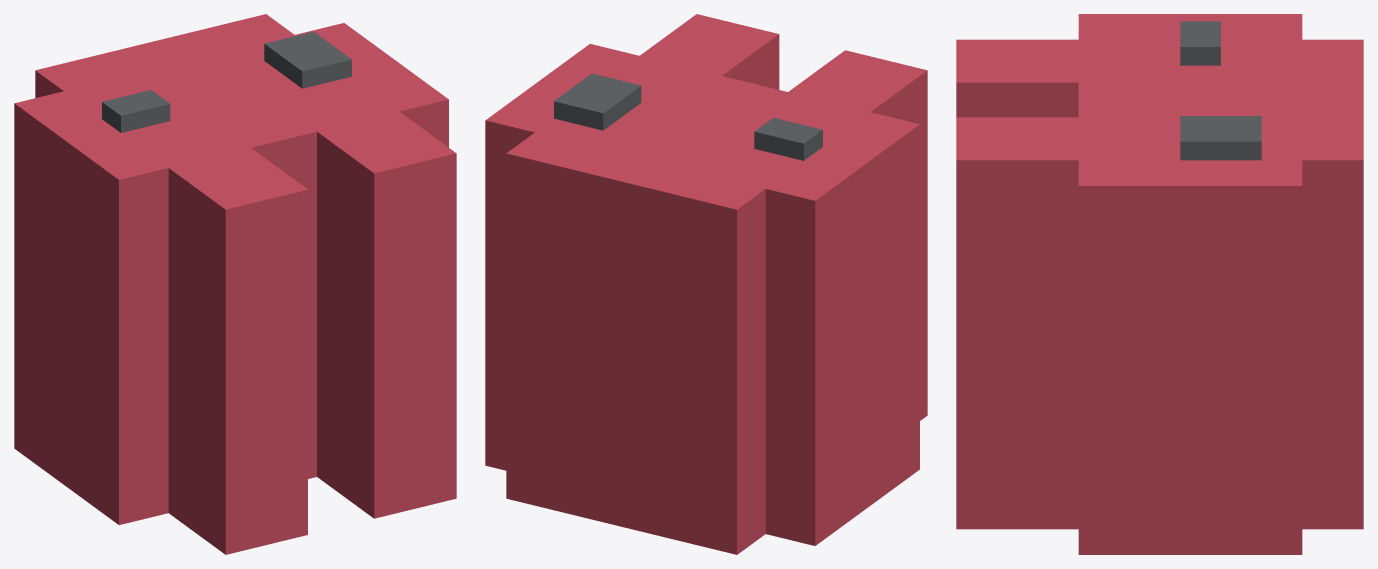
The model's file is gdicon 1.glb.
3 views of the same model, side by side, from view 1: azimuth 30°, elevation 25°; view 2: azimuth 150°, elevation 25°; view 3: azimuth 270°, elevation 25° (orthographic). The views are drawn at different scales.
Parts seen in each view (by area): view 1: Mesh_Mesh_head_geo.001_lambert2SG.001; view 2: Mesh_Mesh_head_geo.001_lambert2SG.001; view 3: Mesh_Mesh_head_geo.001_lambert2SG.001.
Part boxes in pixels (box(x1,y1,x2,y2)): Mesh_Mesh_head_geo.001_lambert2SG.001: box(14, 14, 456, 554); Mesh_Mesh_head_geo.001_lambert2SG.001: box(485, 14, 927, 554); Mesh_Mesh_head_geo.001_lambert2SG.001: box(956, 14, 1363, 554).
Size of the model in its own units: 1.8 by 1.89 by 1.8.
